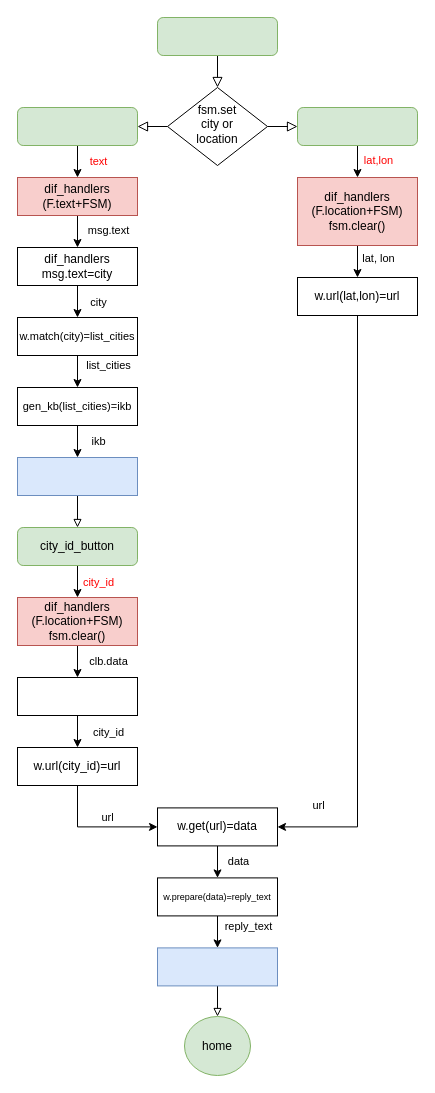
This 435x1093 diagram has some shape labels left out. Here are the shapes that lost their labels. From the top down, the box of each, then its label:
(156, 16, 278, 56): weather button
(16, 106, 138, 146): input name
(296, 106, 418, 146): location button
(16, 456, 138, 496): dif_handlers answer(ikb)
(16, 676, 138, 716): ikb_handler clb.data=city_id
(156, 947, 278, 986): dif_handlers answer(reply_text)
